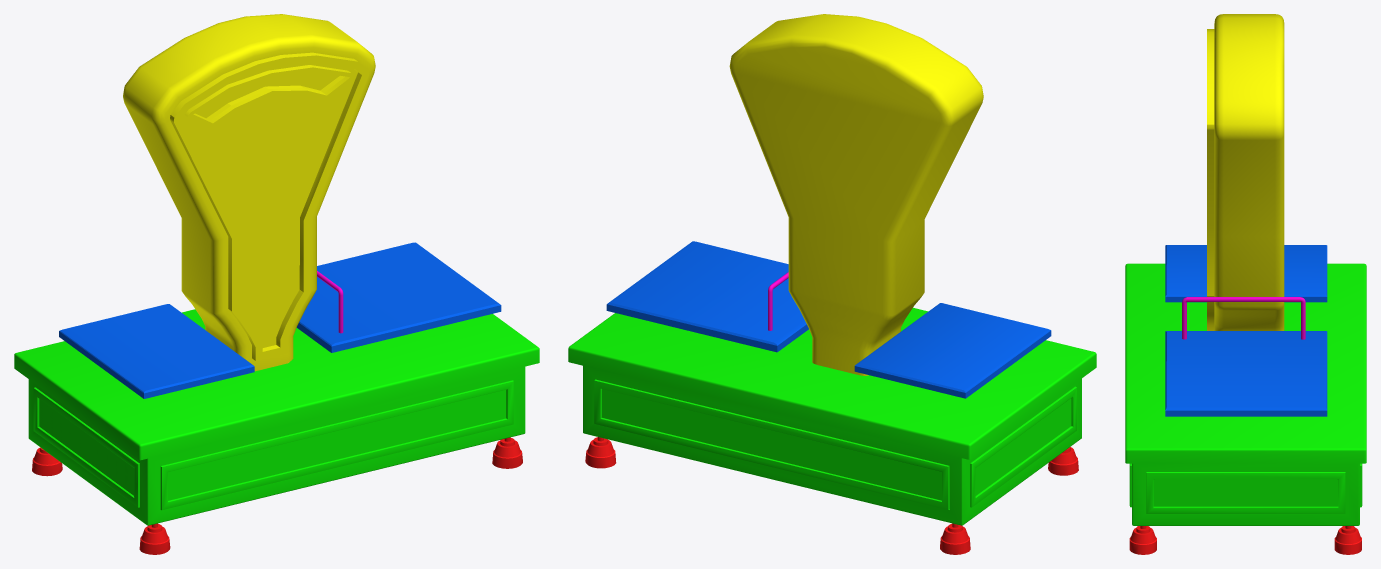
The model's file is AntiqueScales.fbx.
3 renders of one model, left to right at view 1: azimuth 30°, elevation 25°; view 2: azimuth 150°, elevation 25°; view 3: azimuth 270°, elevation 25°, orthographic. The views are drawn at different scales.
Parts seen in each view (by area): view 1: Scales; view 2: Scales; view 3: Scales.
Part boxes in pixels (box(x1,y1,x2,y2)): Scales: box(14, 14, 539, 554); Scales: box(568, 14, 1096, 554); Scales: box(1125, 14, 1366, 554).
Bounding box in the file's own units: 37.23 × 39.13 × 20.37.
